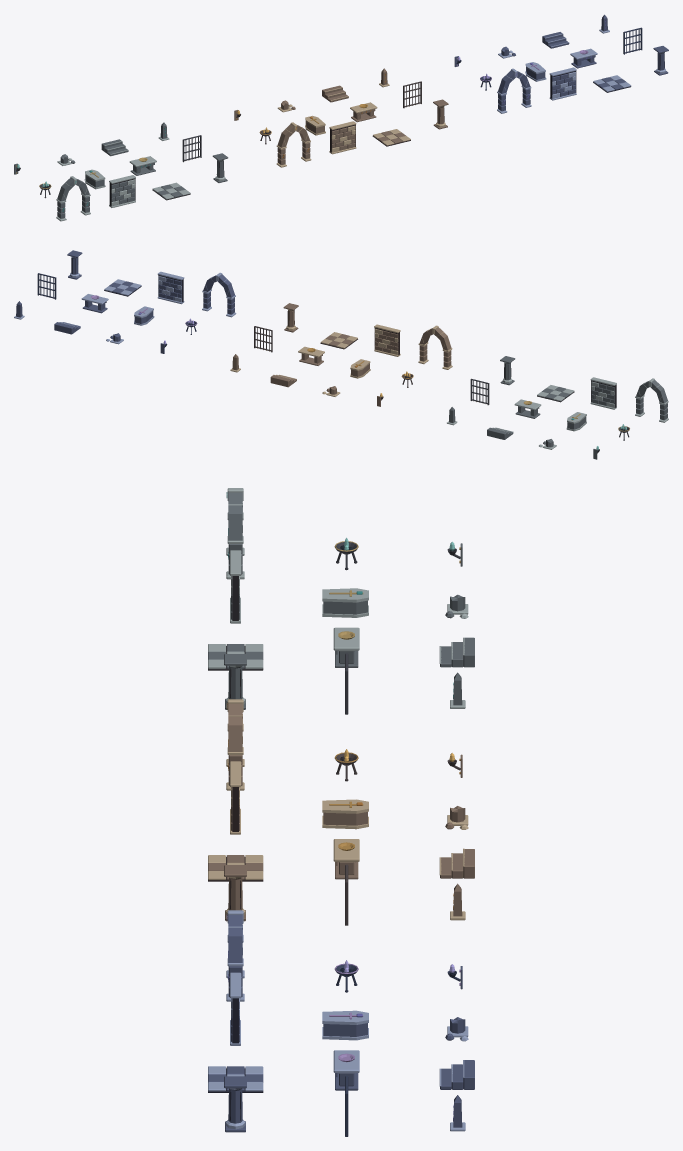
The model's file is runestone-dungeon-native.glb.
3 views of the same model, one above another, from view 1: azimuth 30°, elevation 25°; view 2: azimuth 150°, elevation 25°; view 3: azimuth 270°, elevation 25° (orthographic). The views are drawn at different scales.
Visible parts, largest first — view 1: Twilight__02_Masonry_Wall__Body, Classic__02_Masonry_Wall__Body, Warm__02_Masonry_Wall__Body, Twilight__03_Flagstone_Tile__Body, Classic__03_Flagstone_Tile__Body, Warm__03_Flagstone_Tile__Body, Twilight__07_Ritual_Altar__Body, Classic__07_Ritual_Altar__Body, Warm__07_Ritual_Altar__Body, Warm__01_Pointed_Gateway__Crown, Twilight__01_Pointed_Gateway__Crown, Classic__01_Pointed_Gateway__Crown (+5 smaller); view 2: Twilight__02_Masonry_Wall__Body, Warm__02_Masonry_Wall__Body, Classic__02_Masonry_Wall__Body, Twilight__03_Flagstone_Tile__Body, Warm__03_Flagstone_Tile__Body, Classic__03_Flagstone_Tile__Body, Classic__08_Iron_Grate__Body, Twilight__08_Iron_Grate__Body, Warm__01_Pointed_Gateway__Crown, Twilight__01_Pointed_Gateway__Crown, Twilight__07_Ritual_Altar__Body, Classic__01_Pointed_Gateway__Crown (+2 smaller); view 3: Twilight__03_Flagstone_Tile__Body, Classic__03_Flagstone_Tile__Body, Warm__03_Flagstone_Tile__Body, Twilight__04_Octagonal_Pillar__Body, Classic__07_Ritual_Altar__Body, Warm__07_Ritual_Altar__Body, Twilight__07_Ritual_Altar__Body, Classic__11_Three_Stone_Steps__Body, Warm__11_Three_Stone_Steps__Body, Twilight__11_Three_Stone_Steps__Body.
Part boxes in pixels (<box>): Twilight__02_Masonry_Wall__Body: <box>549,67,576,100</box>; Classic__02_Masonry_Wall__Body: <box>109,175,135,207</box>; Warm__02_Masonry_Wall__Body: <box>329,121,356,154</box>; Twilight__03_Flagstone_Tile__Body: <box>593,75,631,92</box>; Classic__03_Flagstone_Tile__Body: <box>152,182,190,200</box>; Warm__03_Flagstone_Tile__Body: <box>372,129,410,146</box>; Twilight__07_Ritual_Altar__Body: <box>570,48,597,68</box>; Classic__07_Ritual_Altar__Body: <box>129,156,156,175</box>; Warm__07_Ritual_Altar__Body: <box>350,102,377,122</box>; Warm__01_Pointed_Gateway__Crown: <box>277,122,310,147</box>; Twilight__01_Pointed_Gateway__Crown: <box>498,68,530,93</box>; Classic__01_Pointed_Gateway__Crown: <box>57,176,89,201</box>; Twilight__02_Masonry_Wall__Body: <box>157,271,184,304</box>; Warm__02_Masonry_Wall__Body: <box>374,324,400,356</box>; Classic__02_Masonry_Wall__Body: <box>590,377,616,409</box>; Twilight__03_Flagstone_Tile__Body: <box>104,279,141,296</box>; Warm__03_Flagstone_Tile__Body: <box>320,332,357,349</box>; Classic__03_Flagstone_Tile__Body: <box>537,385,574,402</box>; Classic__08_Iron_Grate__Body: <box>470,378,489,405</box>; Twilight__08_Iron_Grate__Body: <box>37,273,56,299</box>; Warm__01_Pointed_Gateway__Crown: <box>419,325,451,350</box>; Twilight__01_Pointed_Gateway__Crown: <box>203,272,234,297</box>; Twilight__07_Ritual_Altar__Body: <box>81,294,108,313</box>; Classic__01_Pointed_Gateway__Crown: <box>636,378,667,403</box>; Twilight__03_Flagstone_Tile__Body: <box>208,1066,263,1092</box>; Classic__03_Flagstone_Tile__Body: <box>208,644,263,670</box>; Warm__03_Flagstone_Tile__Body: <box>208,855,263,881</box>; Twilight__04_Octagonal_Pillar__Body: <box>224,1076,246,1132</box>; Classic__07_Ritual_Altar__Body: <box>333,627,359,667</box>; Warm__07_Ritual_Altar__Body: <box>333,839,359,879</box>; Twilight__07_Ritual_Altar__Body: <box>333,1050,359,1090</box>; Classic__11_Three_Stone_Steps__Body: <box>439,637,474,667</box>; Warm__11_Three_Stone_Steps__Body: <box>439,848,474,878</box>; Twilight__11_Three_Stone_Steps__Body: <box>439,1060,474,1089</box>.
Size of the model in its own units: 99.99 by 6.05 by 19.25.
3 materials, 3 textured.
